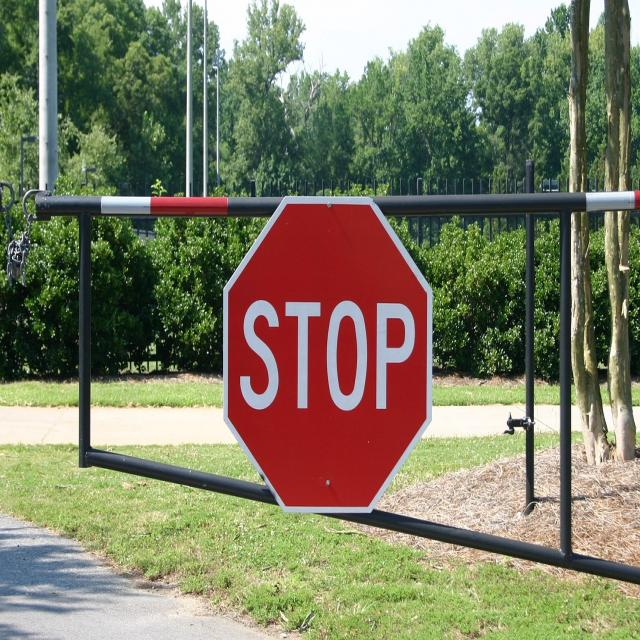stop: (219, 188, 439, 522)
